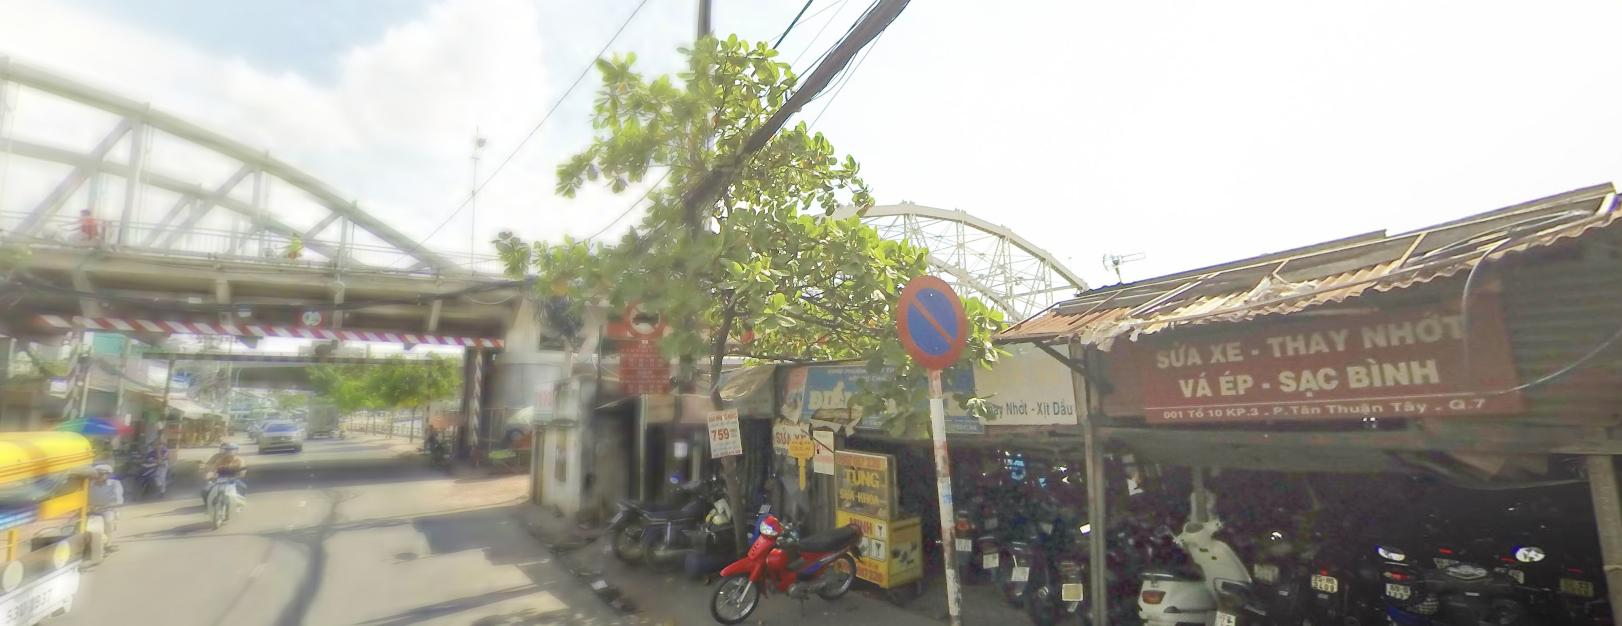Cam con lai: (622, 294, 667, 336), (296, 305, 326, 327)
Cam dung va do: (894, 268, 968, 369)
